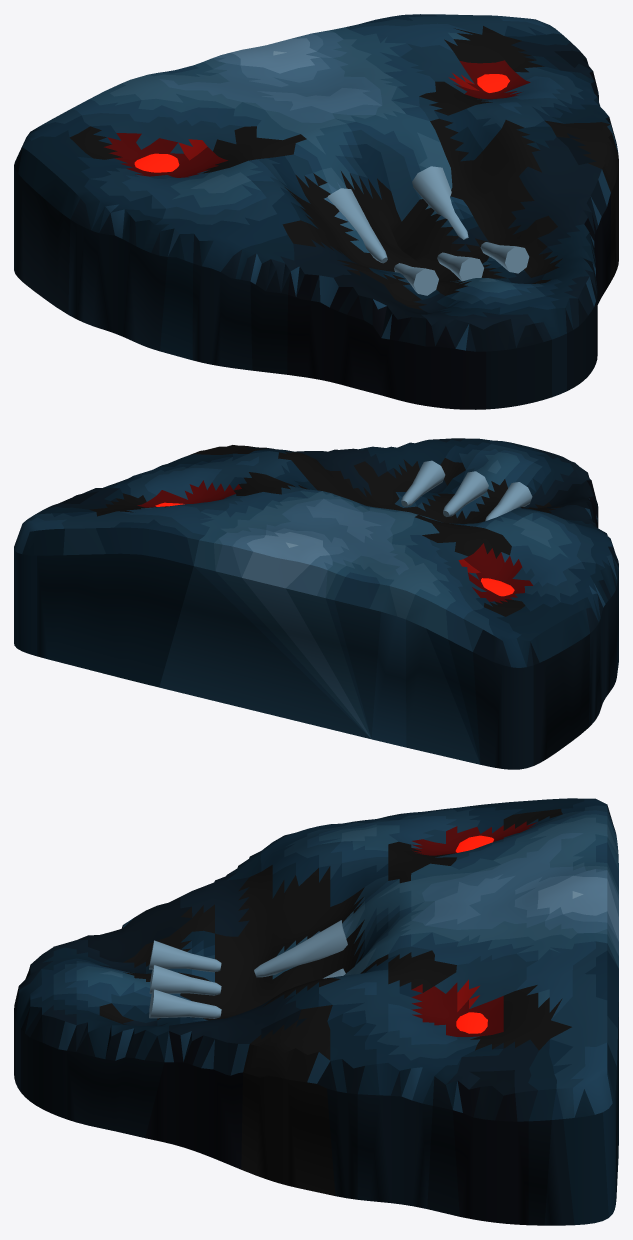
Rendered from gryphon_head_121.glb.
3 views of the same model, one above another, from view 1: azimuth 30°, elevation 25°; view 2: azimuth 150°, elevation 25°; view 3: azimuth 270°, elevation 25° (orthographic). The views are drawn at different scales.
Visible parts, largest first — view 1: ghead, ghead_fang+2, ghead_fang-2, ghead_tooth+2, ghead_tooth-2, ghead_tooth-0, ghead_eye-8; view 2: ghead, ghead_tooth-0, ghead_tooth+2, ghead_tooth-2; view 3: ghead, ghead_fang-2, ghead_tooth+2, ghead_tooth-0, ghead_tooth-2.
Part boxes in pixels (box(x1,y1,x2,y2)): ghead: box(14, 14, 618, 409); ghead_fang+2: box(412, 166, 468, 239); ghead_fang-2: box(327, 188, 387, 263); ghead_tooth+2: box(480, 242, 529, 273); ghead_tooth-2: box(394, 263, 438, 295); ghead_tooth-0: box(437, 252, 483, 281); ghead_eye-8: box(134, 153, 179, 172); ghead: box(14, 438, 618, 769); ghead_tooth-0: box(443, 471, 488, 516); ghead_tooth+2: box(401, 460, 445, 506); ghead_tooth-2: box(485, 482, 532, 520); ghead: box(14, 798, 618, 1225); ghead_fang-2: box(254, 920, 347, 977); ghead_tooth+2: box(149, 989, 221, 1018); ghead_tooth-0: box(149, 965, 221, 995); ghead_tooth-2: box(149, 940, 221, 972).
Size of the model in its own units: 23.98 by 6.85 by 20.97.
